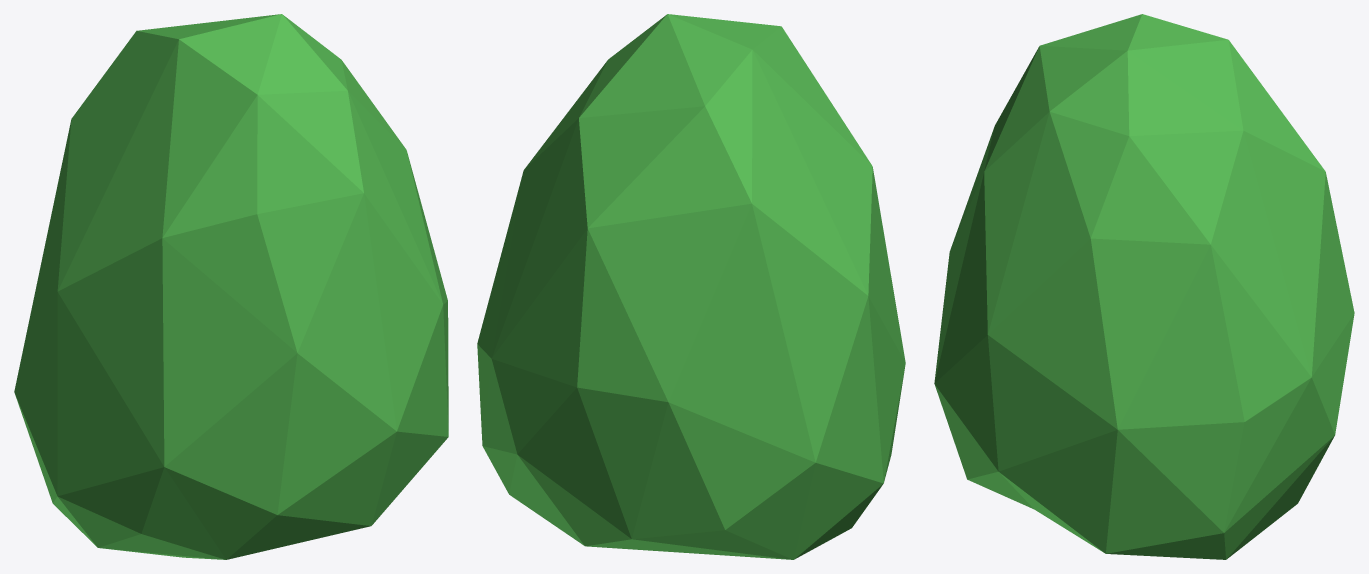
The model's file is floresta_bush_large.glb.
3 views of the same model, side by side, from view 1: azimuth 30°, elevation 25°; view 2: azimuth 150°, elevation 25°; view 3: azimuth 270°, elevation 25° (orthographic). The views are drawn at different scales.
Visible parts, largest first — view 1: Bush big f; view 2: Bush big f; view 3: Bush big f.
Part boxes in pixels (box(x1,y1,x2,y2)): Bush big f: box(14, 14, 448, 559); Bush big f: box(477, 14, 905, 559); Bush big f: box(934, 14, 1354, 559).
Size of the model in its own units: 4.43 by 5.57 by 4.43.
